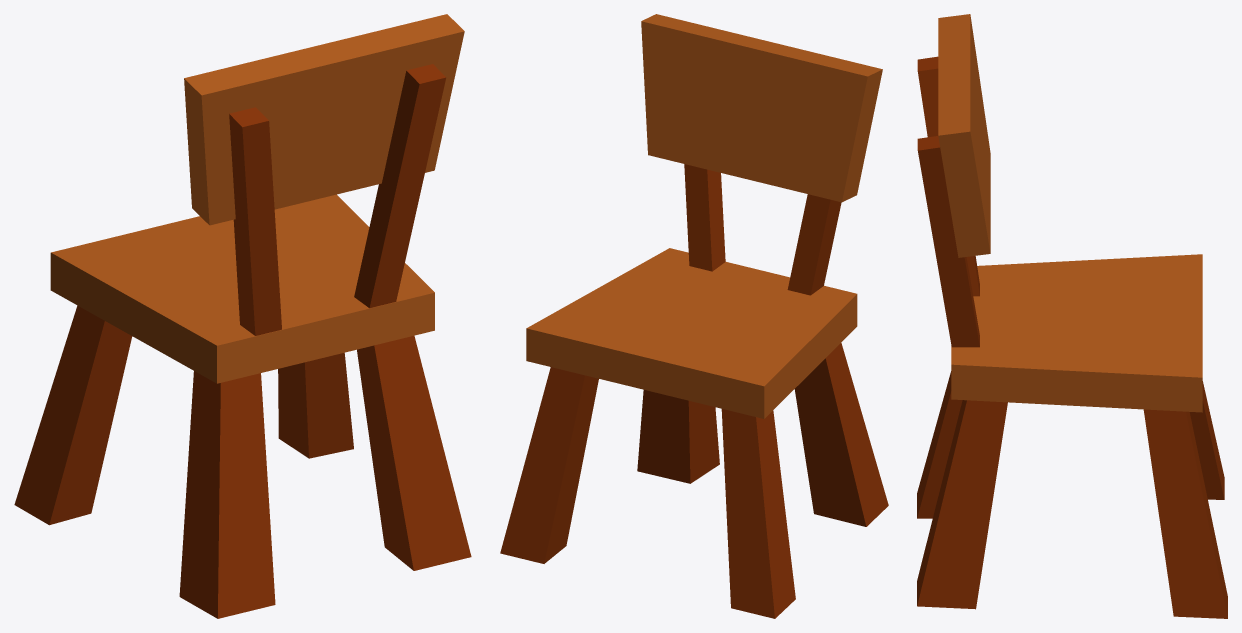
Rendered from Chair_1.fbx.
The picture shows the model from 3 angles, left to right: view 1: azimuth 30°, elevation 25°; view 2: azimuth 150°, elevation 25°; view 3: azimuth 270°, elevation 25°; orthographic projection. The views are drawn at different scales.
Visible parts, largest first — view 1: Cube.006; view 2: Cube.006; view 3: Cube.006.
Part boxes in pixels (x1=…): Cube.006: x1=14, y1=14, x2=471, y2=618; Cube.006: x1=500, y1=14, x2=888, y2=618; Cube.006: x1=917, y1=14, x2=1227, y2=618.
Size of the model in its own units: 65.85 by 103 by 60.97.
1 material, 1 textured.
